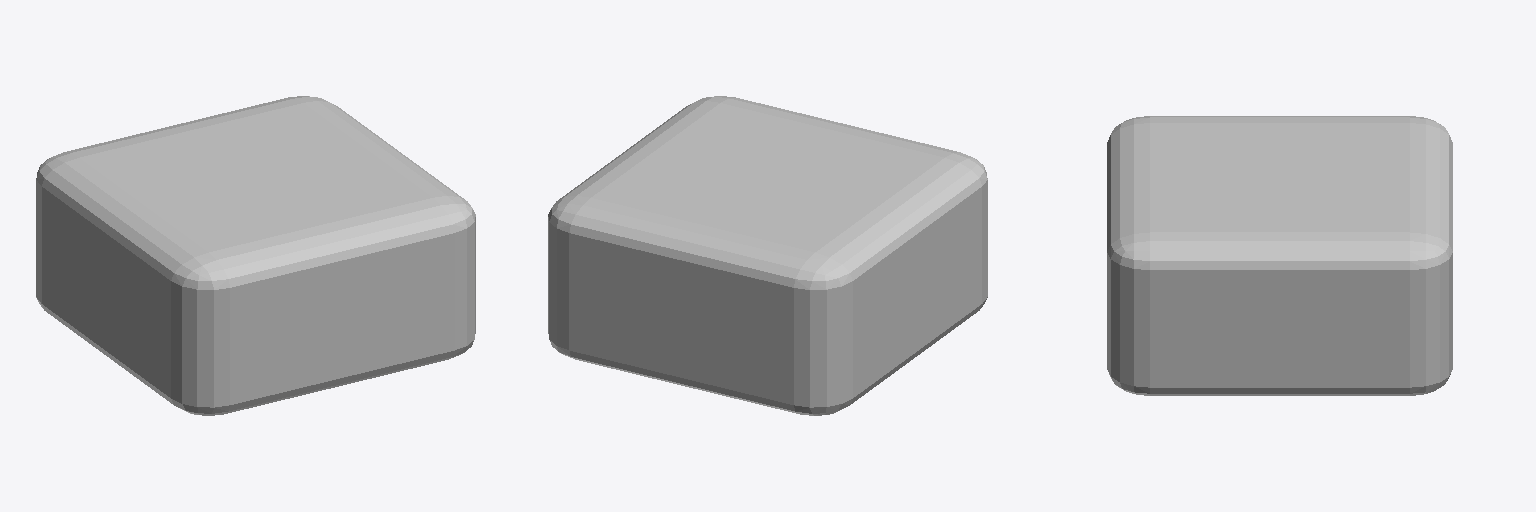
The model's file is flat-cube.obj.
3 views of the same model, side by side, from view 1: azimuth 30°, elevation 25°; view 2: azimuth 150°, elevation 25°; view 3: azimuth 270°, elevation 25° (orthographic).
Parts seen in each view (by area): view 1: Cube; view 2: Cube; view 3: Cube.
Part boxes in pixels (left/top/right/bottom): Cube: left=36, top=96, right=475, bottom=415; Cube: left=548, top=96, right=987, bottom=415; Cube: left=1107, top=116, right=1452, bottom=395.
Size of the model in its own units: 2 by 1 by 2.